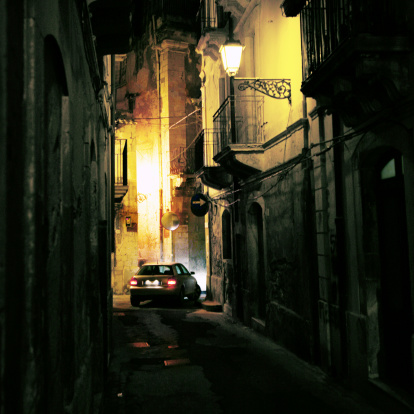car: (128, 259, 205, 313)
